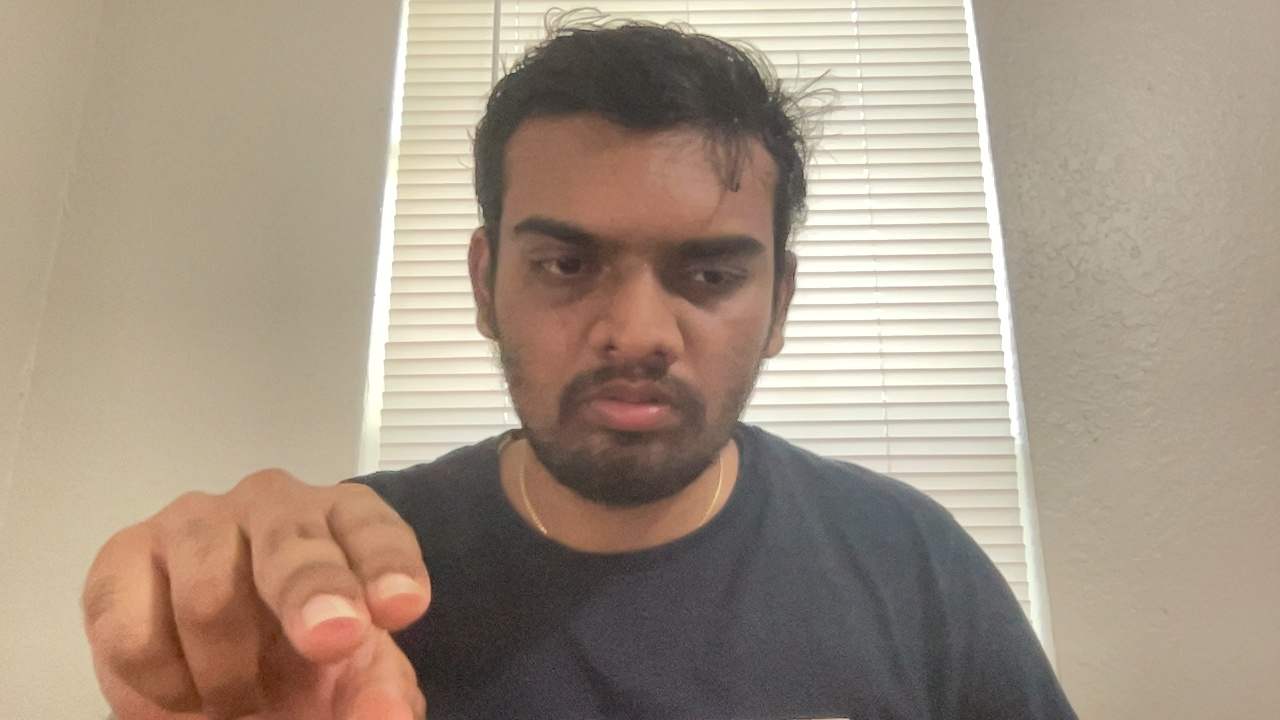no: (80, 466, 440, 720)
